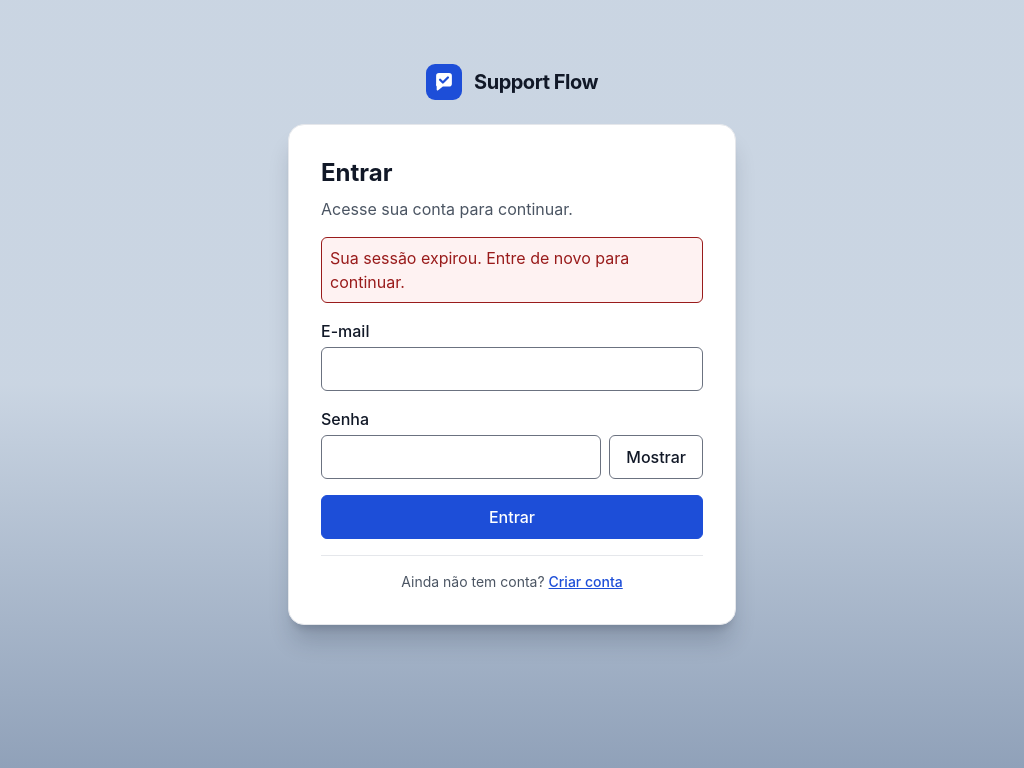
Test: sessão e rotas › destino de sessão expirada › outra pessoa entrando nesta aba vai para a própria tela inicial
Check: the heading "Entrar" is shown, box left=321, top=157, right=392, bottom=189
Check: the message shows "Sua sessão expirou", box left=330, top=248, right=629, bottom=292
In the field labelled "E-mail": (512, 369) left=321, top=347, right=703, bottom=391, type "b@x.dev"
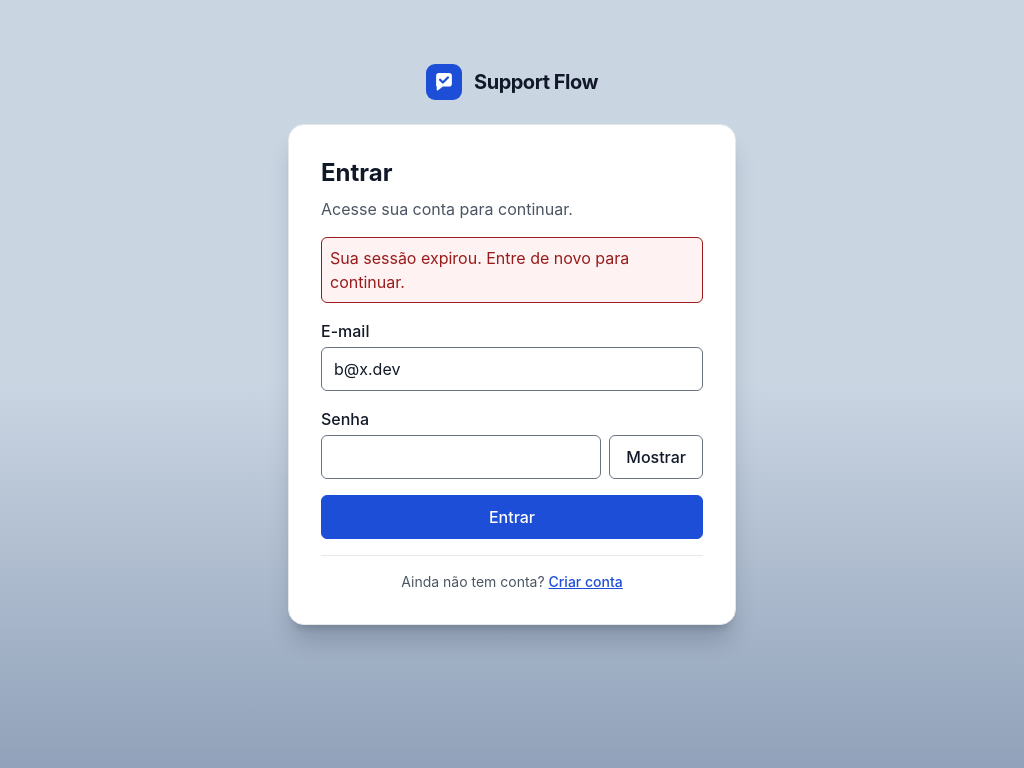
In the password field labelled "Senha": (461, 457) left=321, top=435, right=601, bottom=479, type "senha-forte"
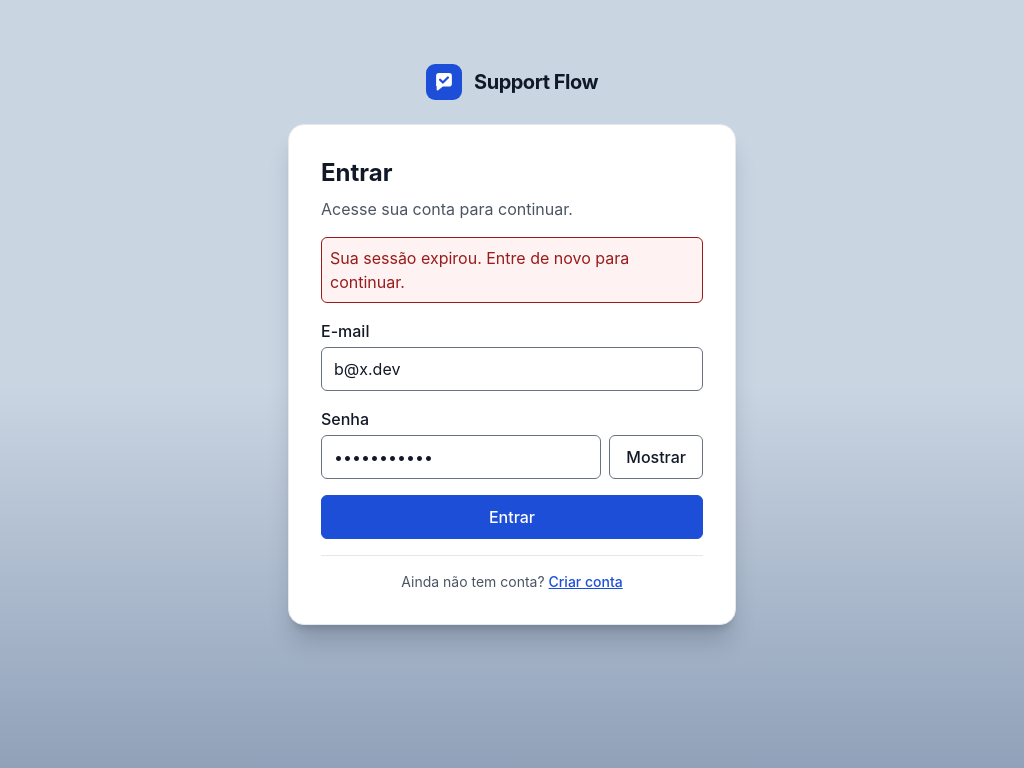
Click the button "Entrar": (512, 517) left=321, top=495, right=703, bottom=539
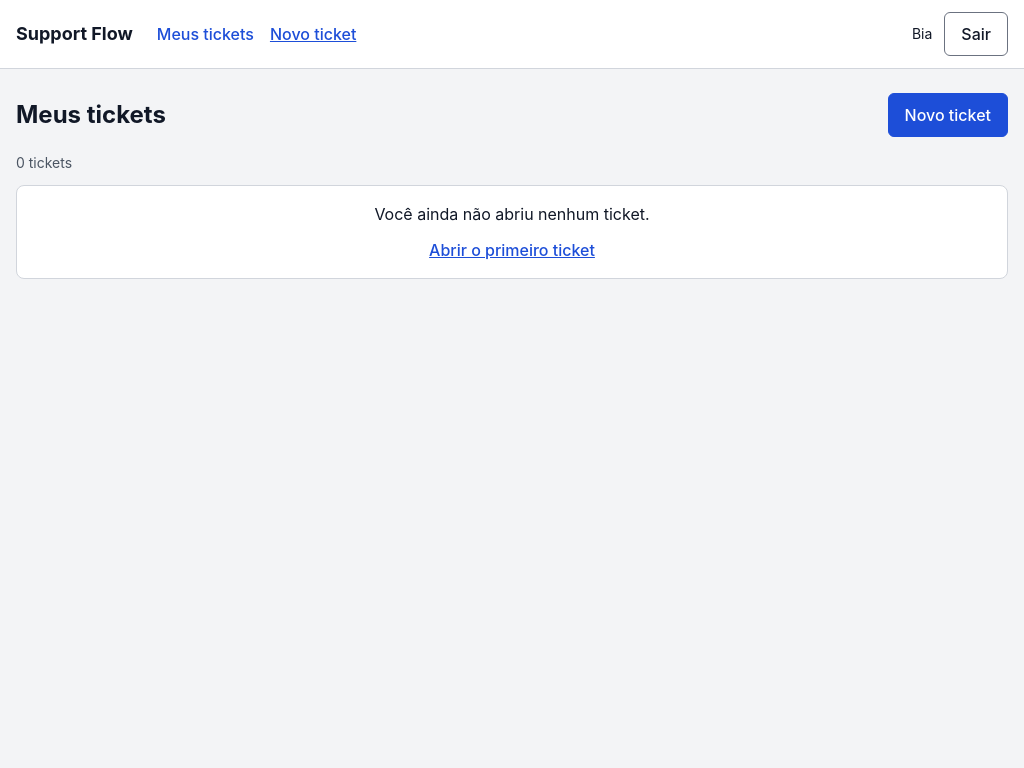
Check: the heading "Meus tickets" is shown, box left=16, top=99, right=166, bottom=131
